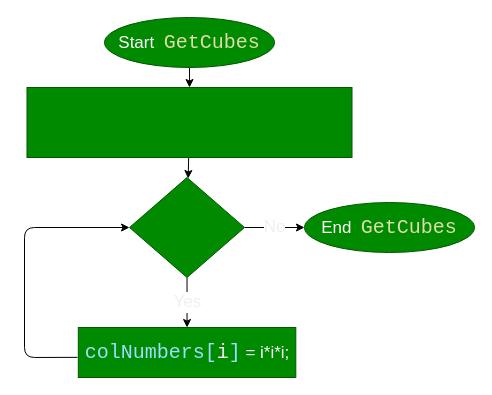
The diagram is 492 pixels wide and 395 high, and some of its shapes have lost their labels. The centre of each missing label's shape, as x and y in pixels:
"i < count" goes at pixel 186 227.
"int [ ] colNumbers = new int[N]; int count = colNumbers.Length; int i = 1;" goes at pixel 189 122.
